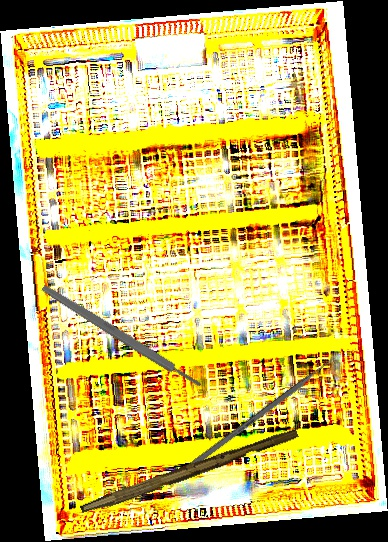Pusher: (185, 349, 345, 472)
Scalpel Handle: (79, 423, 300, 521), (40, 282, 203, 391)
